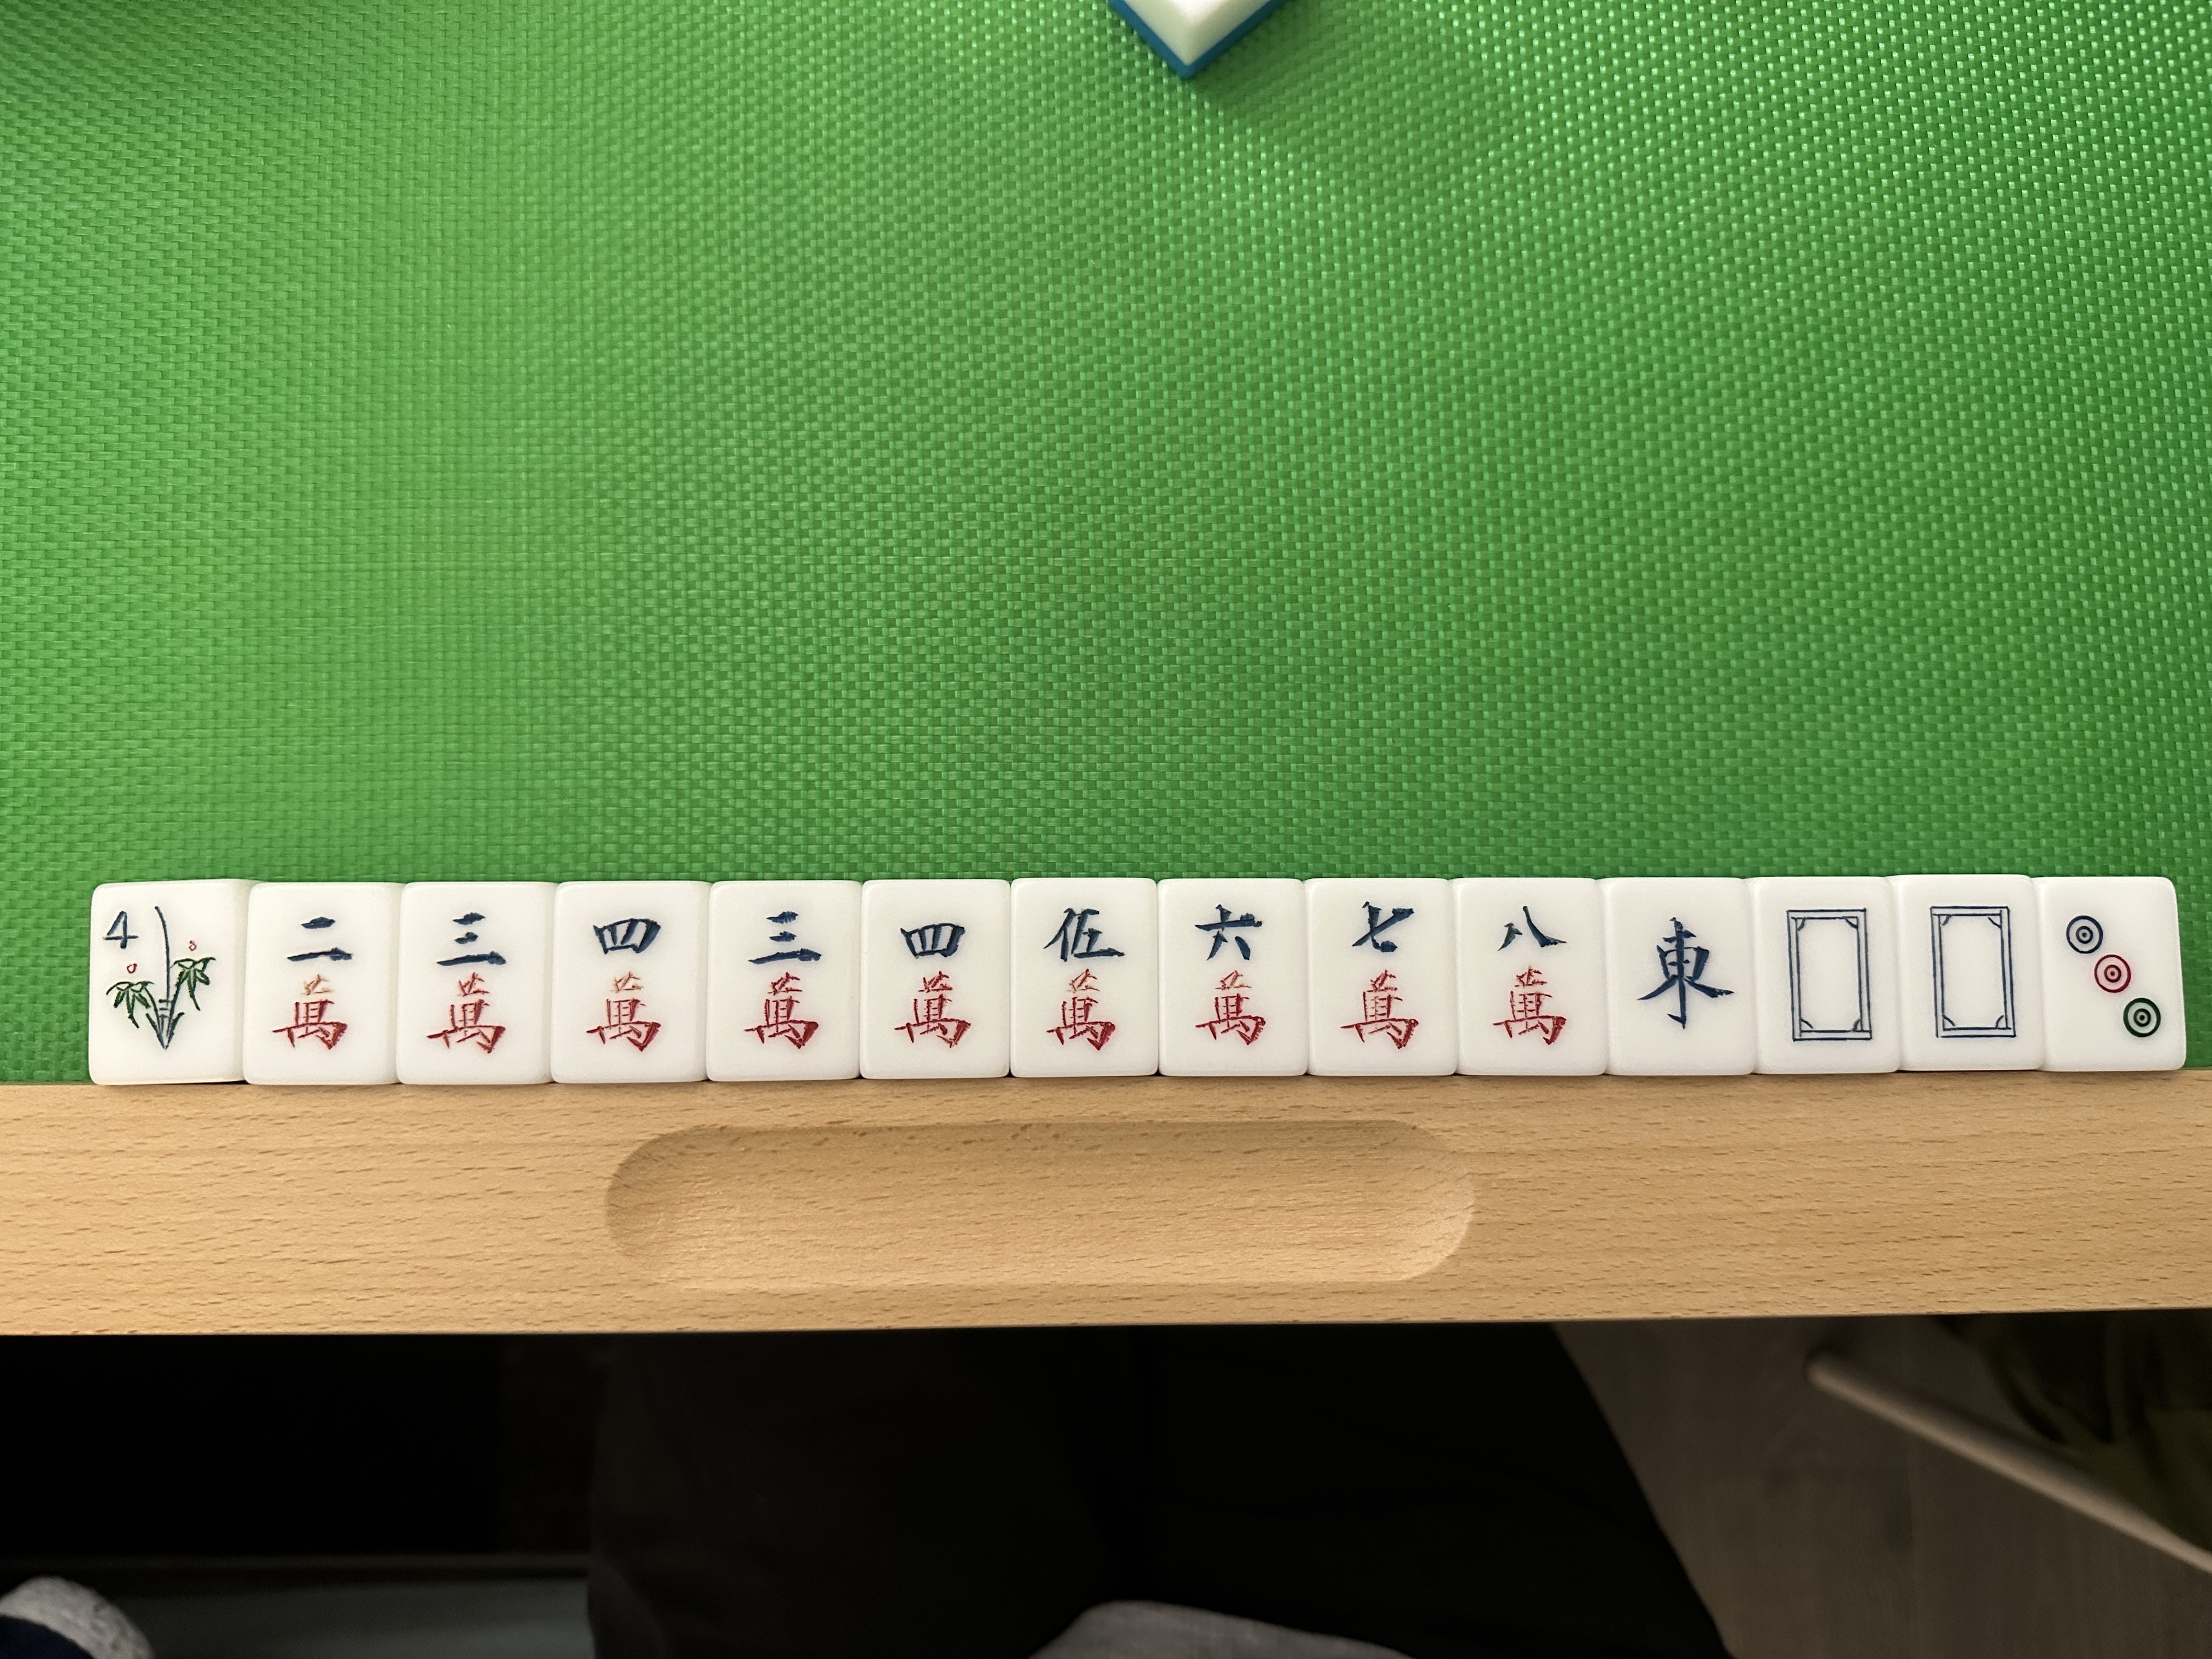character-eight: (1460, 882, 1599, 1075)
character-five: (1014, 882, 1153, 1077)
character-four: (855, 884, 1010, 1079), (552, 884, 702, 1082)
character-seven: (1315, 882, 1449, 1075)
character-six: (1163, 884, 1303, 1075)
character-three: (397, 885, 547, 1080), (712, 885, 852, 1079)
character-two: (246, 887, 394, 1082)
circle-three: (2043, 880, 2172, 1066)
flower-blue_four: (96, 884, 239, 1077)
honor-blue_dragon: (1759, 882, 1890, 1073), (1904, 878, 2033, 1070)
honor-east_wind: (1609, 878, 1749, 1075)
